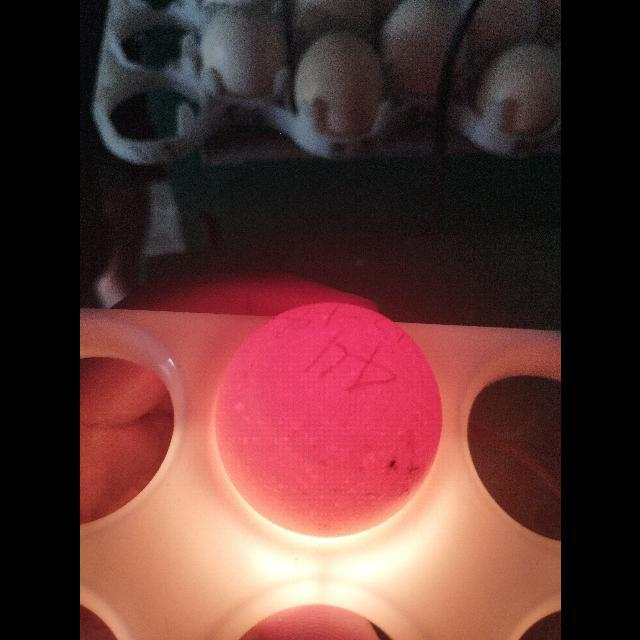Infertile: (209, 298, 447, 546)
